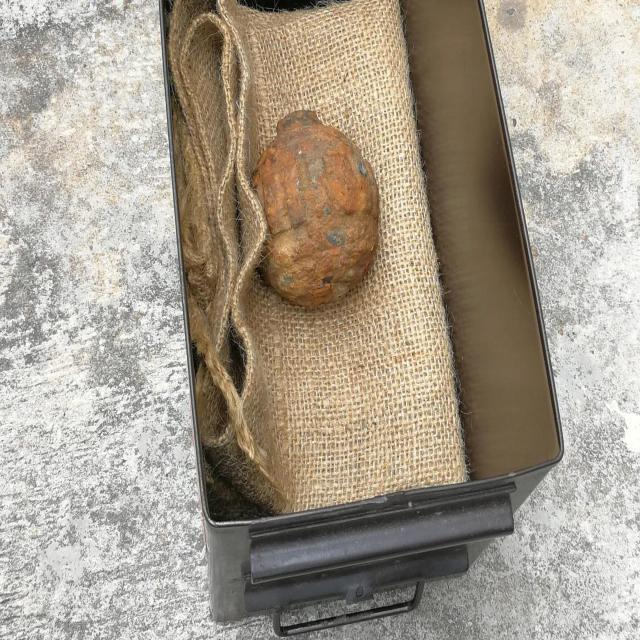grenade: (247, 110, 382, 312)
